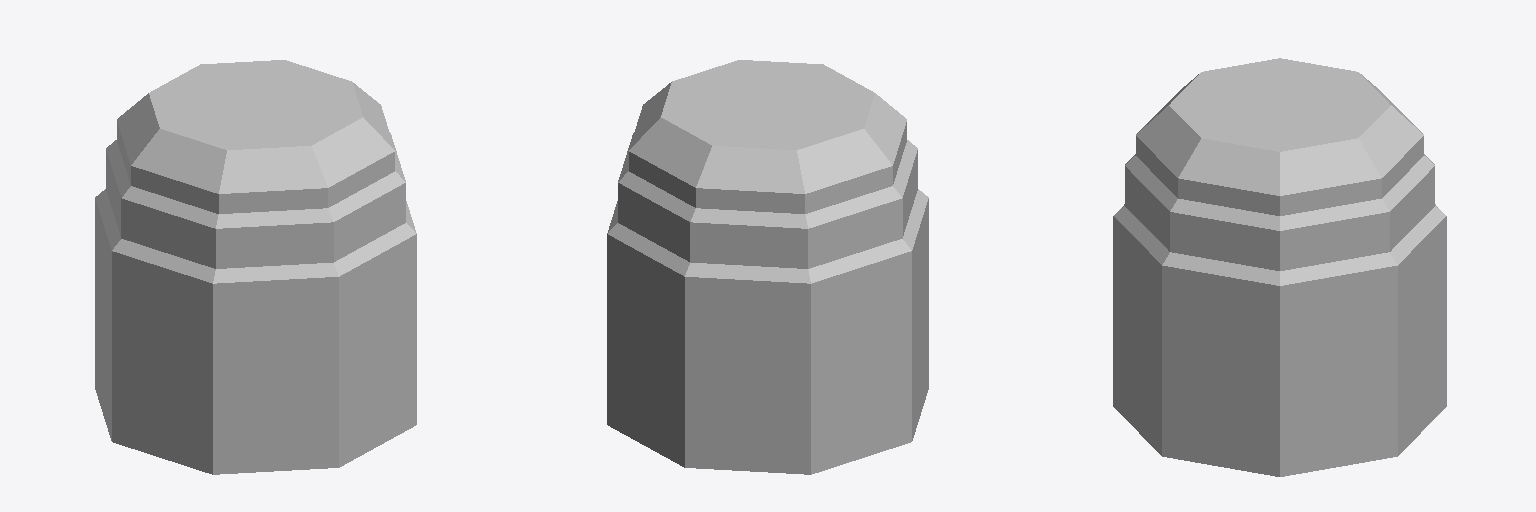
The model's file is Structure_Wall_Inner_Joint_Base.obj.
3 views of the same model, side by side, from view 1: azimuth 30°, elevation 25°; view 2: azimuth 150°, elevation 25°; view 3: azimuth 270°, elevation 25° (orthographic).
Parts seen in each view (by area): view 1: object1; view 2: object1; view 3: object1.
Part boxes in pixels (x1,y1,x2,y2): object1: (95,60,416,474); object1: (607,60,928,474); object1: (1113,58,1446,476).
Bounding box in the file's own units: 0.15 × 0.15 × 0.15.